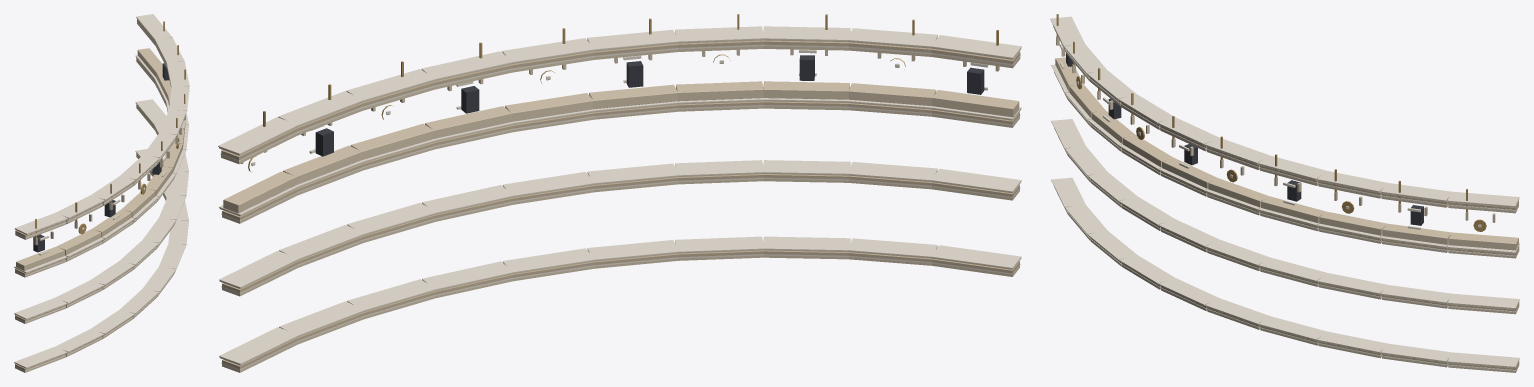
Rendered from COL_AtticCornice_Q1.glb.
3 renders of one model, left to right at view 1: azimuth 30°, elevation 25°; view 2: azimuth 150°, elevation 25°; view 3: azimuth 270°, elevation 25°, orthographic. The views are drawn at different scales.
Parts seen in each view (by area): view 1: COL_AtticCornice_Q1; view 2: COL_AtticCornice_Q1; view 3: COL_AtticCornice_Q1.
Boxes of the visible parts, x1=… form: COL_AtticCornice_Q1: x1=14, y1=14, x2=189, y2=372; COL_AtticCornice_Q1: x1=218, y1=14, x2=1021, y2=372; COL_AtticCornice_Q1: x1=1050, y1=14, x2=1519, y2=372.
Bounding box in the file's own units: 111 × 49 × 116.
